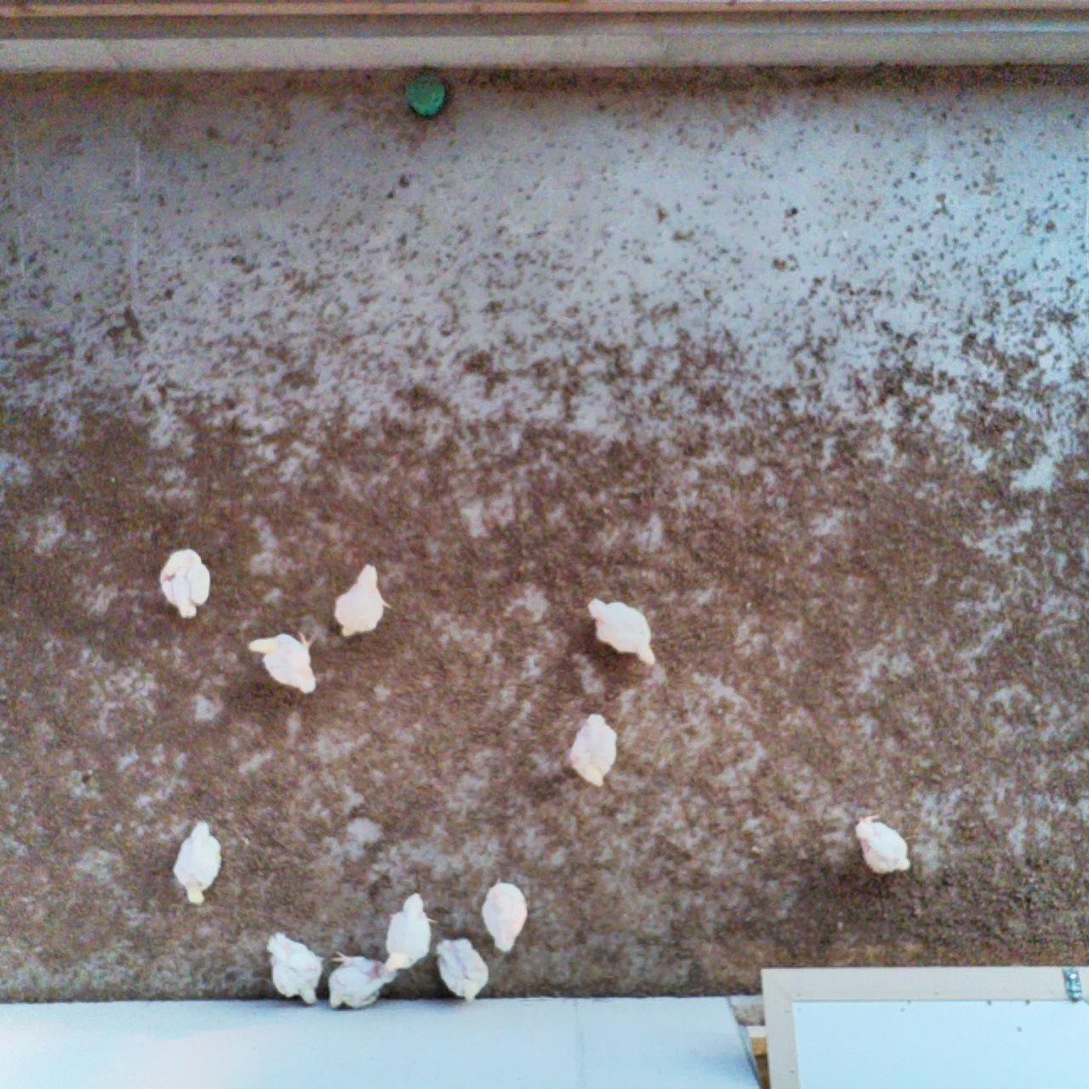chicken: (585, 593, 659, 669), (246, 627, 322, 697), (331, 559, 395, 641), (265, 929, 328, 1009), (172, 817, 226, 907), (384, 890, 440, 974), (326, 948, 399, 1011), (157, 544, 213, 622), (567, 711, 621, 790), (480, 875, 532, 955), (433, 936, 492, 1006), (853, 810, 914, 877)
